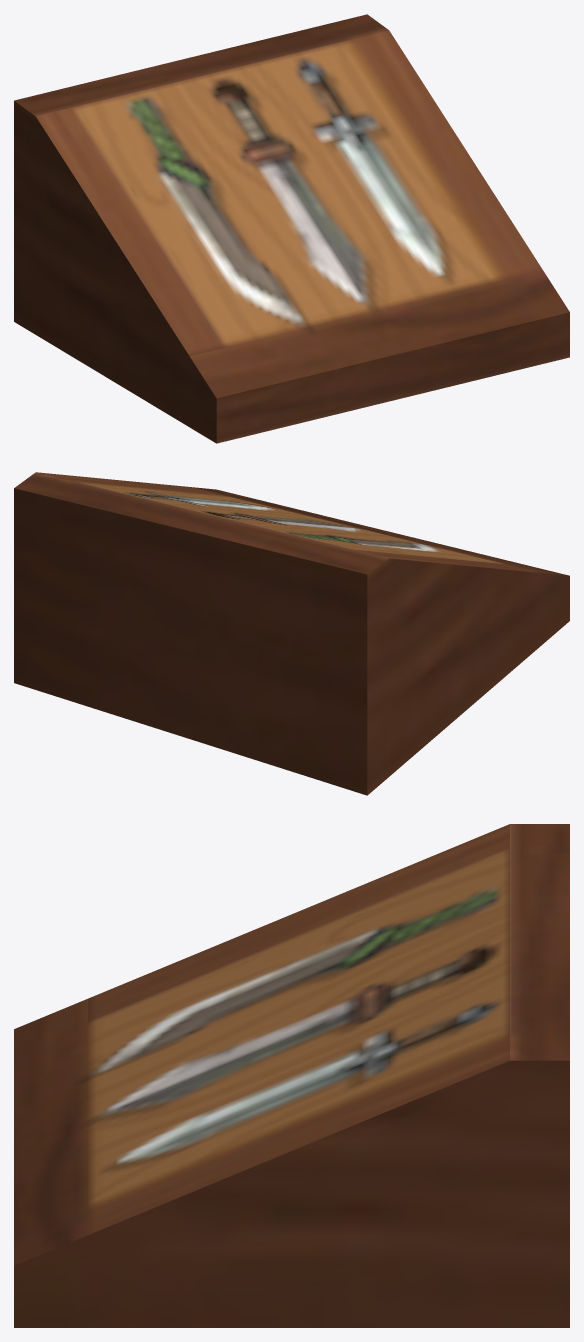
Rendered from etc_Sword_shelves02.FBX.
3 renders of one model, top to bottom at view 1: azimuth 30°, elevation 25°; view 2: azimuth 150°, elevation 25°; view 3: azimuth 270°, elevation 25°, orthographic. The views are drawn at different scales.
Parts seen in each view (by area): view 1: etc_Sword_shelves02; view 2: etc_Sword_shelves02; view 3: etc_Sword_shelves02.
Boxes of the visible parts, x1=… form: etc_Sword_shelves02: x1=14, y1=14, x2=569, y2=443; etc_Sword_shelves02: x1=14, y1=472, x2=569, y2=795; etc_Sword_shelves02: x1=14, y1=824, x2=569, y2=1327.
Bounding box in the file's own units: 115 × 68.86 × 114.
